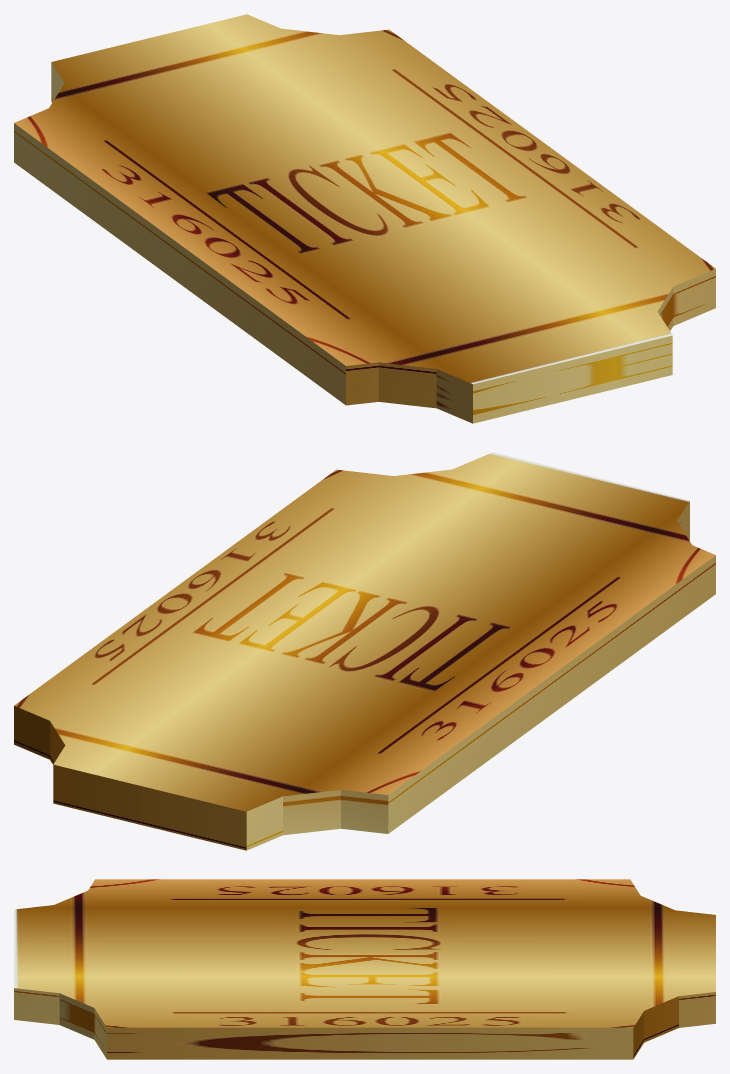
The model's file is ticket2.glb.
3 views of the same model, one above another, from view 1: azimuth 30°, elevation 25°; view 2: azimuth 150°, elevation 25°; view 3: azimuth 270°, elevation 25° (orthographic). The views are drawn at different scales.
Visible parts, largest first — view 1: Cube_0; view 2: Cube_0; view 3: Cube_0.
Part boxes in pixels (left/top/right/bottom): Cube_0: left=14, top=14, right=715, bottom=423; Cube_0: left=14, top=452, right=715, bottom=850; Cube_0: left=14, top=879, right=715, bottom=1059.
Bounding box in the file's own units: 2 × 0.2 × 4.
Materials: 1 (1 with a texture image).
